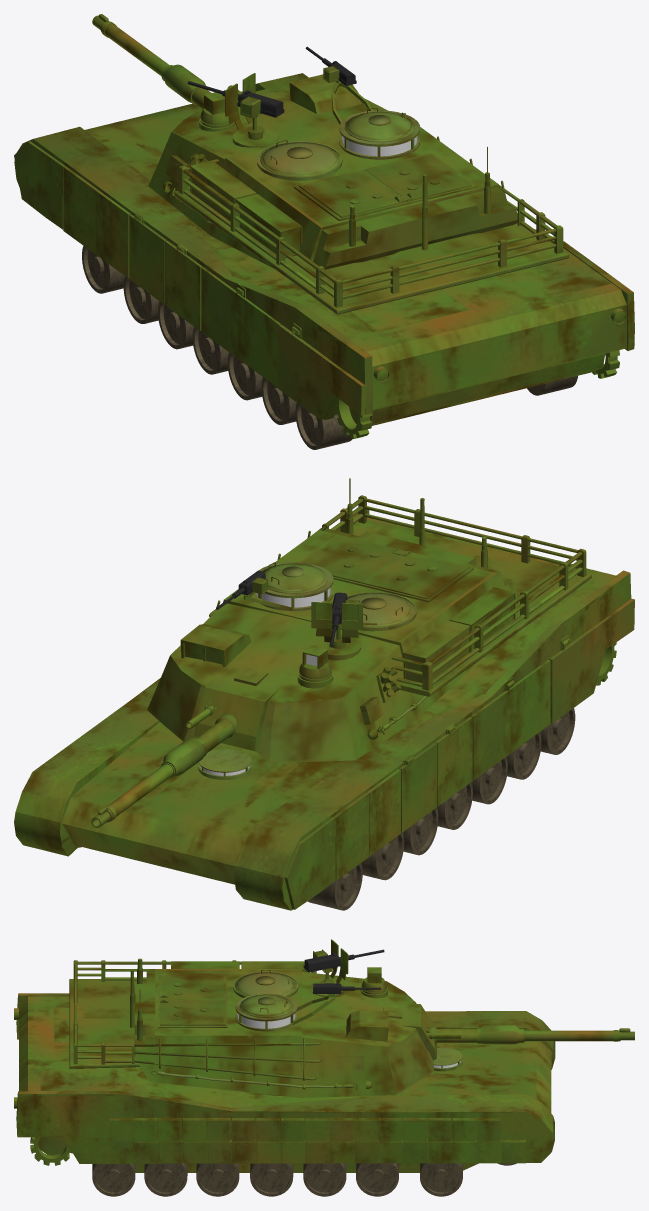
The model's file is Model_Abrams.fbx.
3 renders of one model, top to bottom at view 1: azimuth 30°, elevation 25°; view 2: azimuth 150°, elevation 25°; view 3: azimuth 270°, elevation 25°, orthographic. The views are drawn at different scales.
Parts seen in each view (by area): view 1: tank body, tank tower, muzzle, wheel8, wheel1, wheel3, wheel5, wheel4, wheel2, wheel6, wheel7; view 2: tank body, tank tower, muzzle, wheel3, wheel2, wheel6, wheel5, wheel4, wheel7, wheel8; view 3: tank body, tank tower, muzzle, wheel4, wheel6, wheel5, wheel2, wheel3, wheel7, wheel8, wheel1.
Part boxes in pixels (bbox=[...]): tank body: bbox=[14, 73, 634, 425]; tank tower: bbox=[148, 46, 569, 314]; muzzle: bbox=[92, 14, 280, 108]; wheel8: bbox=[295, 376, 577, 449]; wheel1: bbox=[335, 350, 619, 438]; wheel3: bbox=[82, 246, 124, 293]; wheel5: bbox=[192, 327, 228, 374]; wheel4: bbox=[158, 301, 193, 349]; wheel2: bbox=[123, 276, 159, 323]; wheel6: bbox=[227, 352, 262, 400]; wheel7: bbox=[261, 377, 296, 424]; tank body: bbox=[14, 509, 634, 910]; tank tower: bbox=[147, 478, 591, 762]; muzzle: bbox=[91, 675, 278, 827]; wheel3: bbox=[307, 863, 362, 910]; wheel2: bbox=[361, 832, 404, 880]; wheel6: bbox=[471, 757, 507, 804]; wheel5: bbox=[437, 782, 472, 829]; wheel4: bbox=[403, 807, 438, 855]; wheel7: bbox=[506, 732, 541, 779]; wheel8: bbox=[540, 708, 575, 754]; tank body: bbox=[14, 993, 555, 1172]; tank tower: bbox=[69, 939, 433, 1097]; muzzle: bbox=[398, 1002, 634, 1060]; wheel4: bbox=[303, 1163, 346, 1196]; wheel6: bbox=[196, 1163, 239, 1196]; wheel5: bbox=[250, 1163, 293, 1196]; wheel2: bbox=[356, 1163, 398, 1196]; wheel3: bbox=[420, 1163, 462, 1196]; wheel7: bbox=[144, 1163, 187, 1196]; wheel8: bbox=[92, 1164, 135, 1196]; wheel1: bbox=[30, 1137, 72, 1165].
Bounding box in the file's own units: 1.9 × 4.75 × 1.56.
